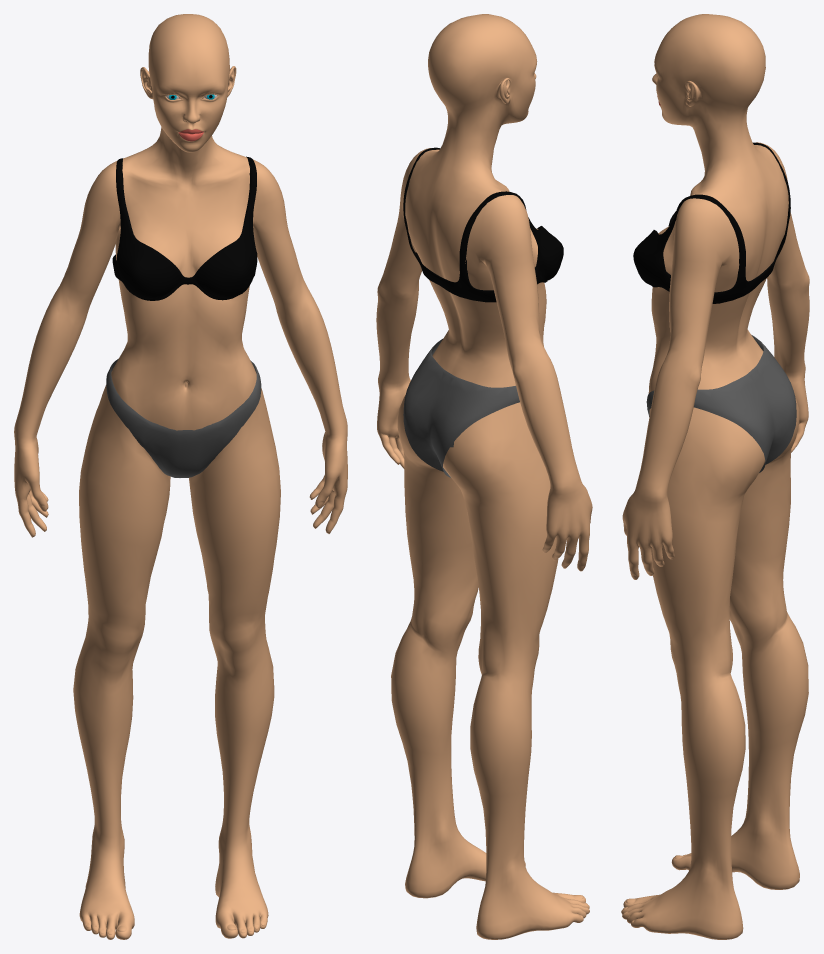
Rendered from women.glb.
The picture shows the model from 3 angles, left to right: view 1: azimuth 30°, elevation 25°; view 2: azimuth 150°, elevation 25°; view 3: azimuth 270°, elevation 25°; orthographic projection.
Parts seen in each view (by area): view 1: FreeAll, FreeAll.001, FreeAll.002; view 2: FreeAll, FreeAll.002, FreeAll.001; view 3: FreeAll, FreeAll.002, FreeAll.001.
Part boxes in pixels (box(x1,y1,x2,y2)): FreeAll: box(14, 14, 347, 939); FreeAll.001: box(112, 156, 257, 300); FreeAll.002: box(106, 358, 261, 477); FreeAll: box(376, 14, 592, 939); FreeAll.002: box(403, 339, 519, 477); FreeAll.001: box(403, 147, 563, 302); FreeAll: box(621, 14, 809, 939); FreeAll.002: box(646, 335, 796, 472); FreeAll.001: box(633, 142, 790, 303).
Size of the model in its own units: 2.7 by 8.48 by 1.62.
